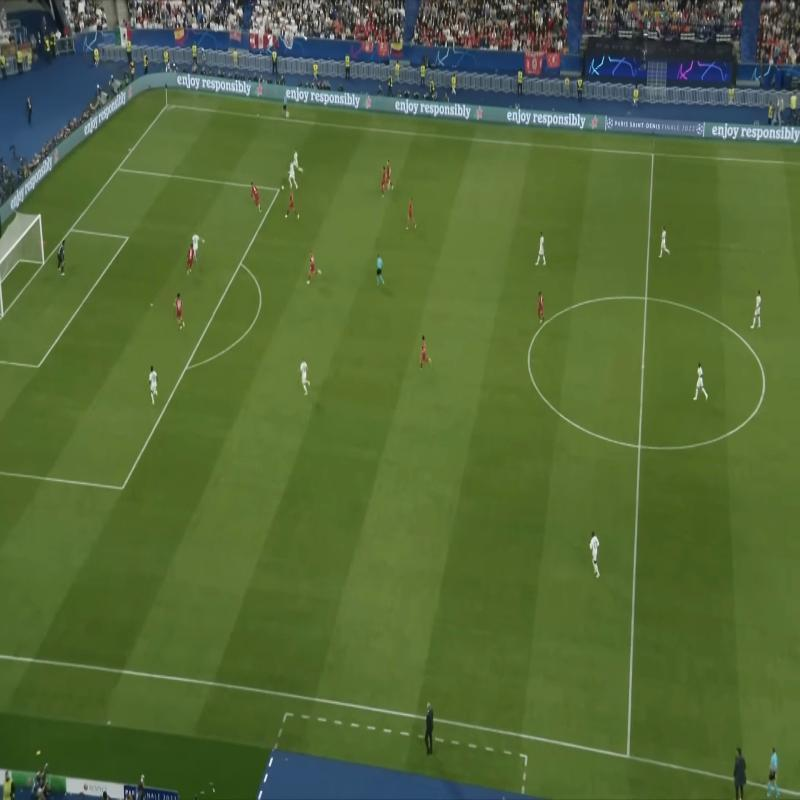1: (160, 97, 174, 113)
10: (233, 256, 250, 272)
11: (178, 358, 194, 378)
12: (114, 478, 132, 496)
13: (644, 148, 662, 164)
14: (638, 290, 654, 307)
15: (631, 436, 649, 454)
16: (621, 746, 637, 764)
2: (114, 158, 124, 178)
3: (65, 222, 77, 238)
7: (121, 231, 135, 244)
8: (30, 358, 48, 374)
9: (274, 180, 284, 200)
c: (756, 374, 774, 391), (519, 348, 537, 364)
